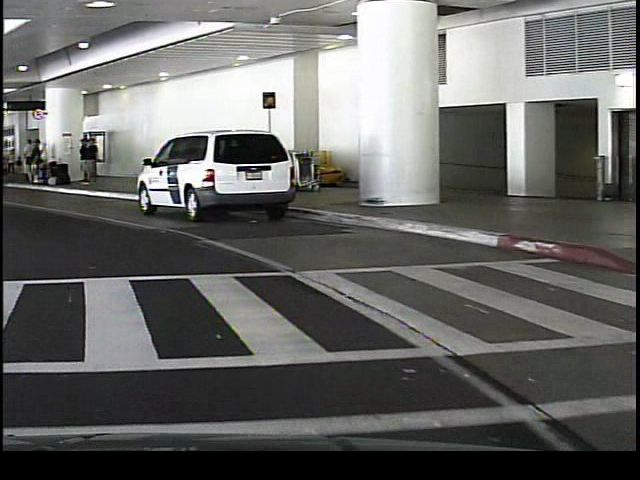person: (16, 133, 31, 185), (85, 138, 99, 187)
